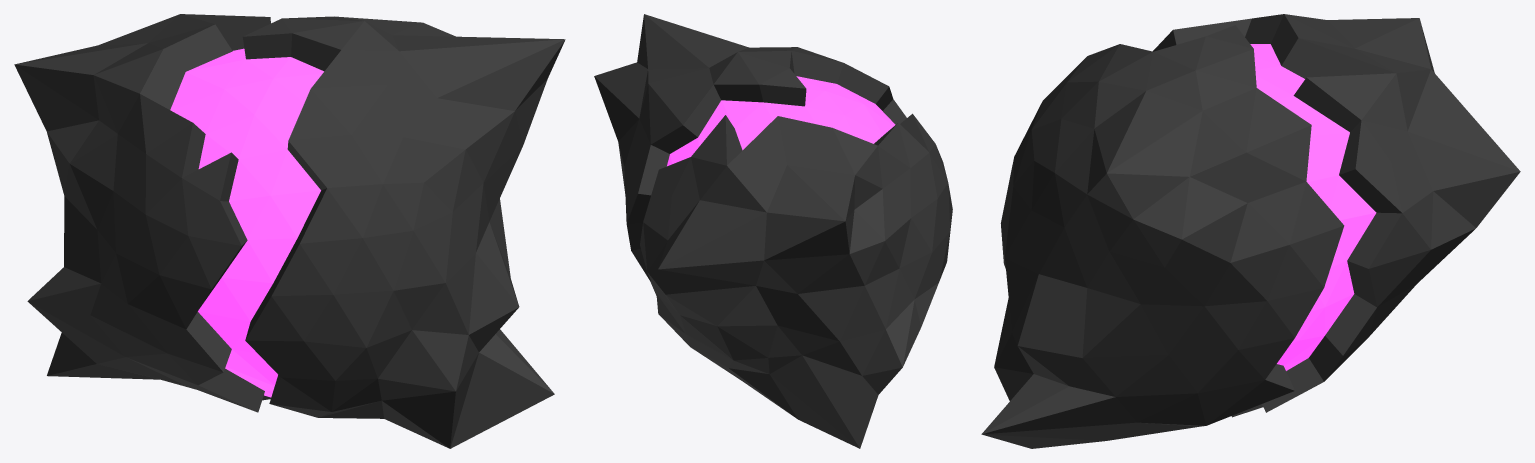
The model's file is mainplanet.fbx.
3 renders of one model, left to right at view 1: azimuth 30°, elevation 25°; view 2: azimuth 150°, elevation 25°; view 3: azimuth 270°, elevation 25°, orthographic. The views are drawn at different scales.
Parts seen in each view (by area): view 1: Icosphere; view 2: Icosphere; view 3: Icosphere.
Boxes of the visible parts, x1=… form: Icosphere: x1=14, y1=14, x2=565, y2=448; Icosphere: x1=594, y1=14, x2=952, y2=448; Icosphere: x1=981, y1=14, x2=1520, y2=448.
Size of the model in its own units: 261 by 206 by 268.
